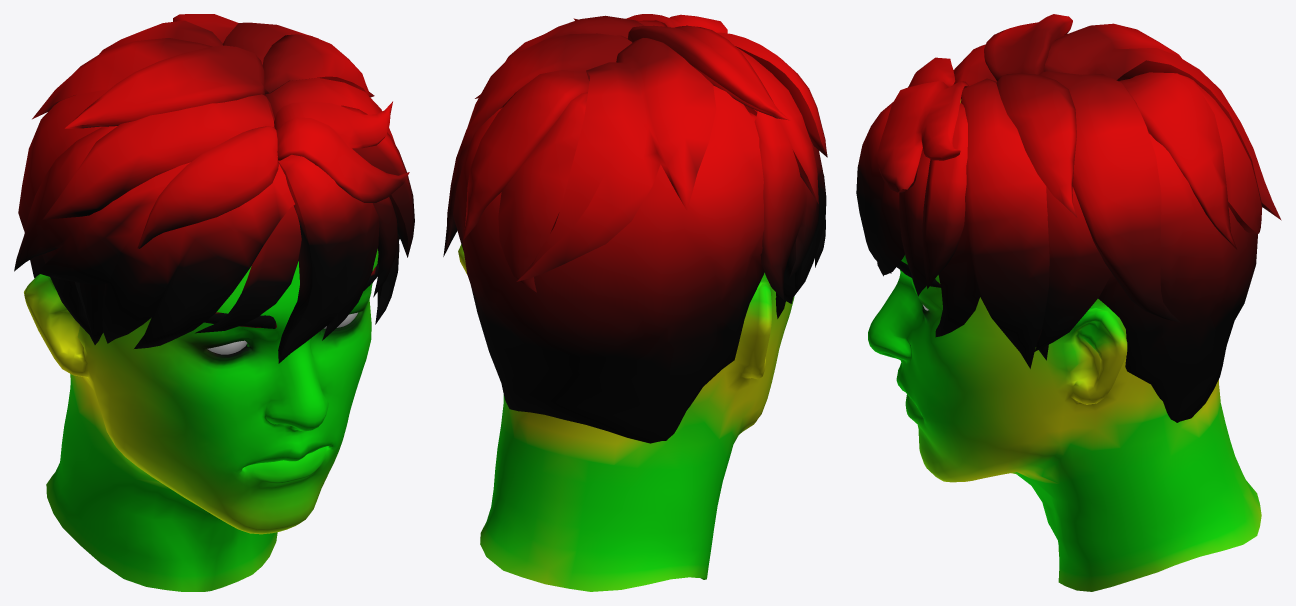
File: Aarav1.fbx
The picture shows the model from 3 angles, left to right: view 1: azimuth 30°, elevation 25°; view 2: azimuth 150°, elevation 25°; view 3: azimuth 270°, elevation 25°; orthographic projection. The views are drawn at different scales.
Parts seen in each view (by area): view 1: Iso_Tongue; view 2: Iso_Tongue; view 3: Iso_Tongue.
Part boxes in pixels (box(x1,y1,x2,y2)): Iso_Tongue: box(14, 14, 414, 591); Iso_Tongue: box(443, 14, 827, 591); Iso_Tongue: box(856, 14, 1281, 591).
Bounding box in the file's own units: 48.82 × 75.6 × 53.91.
